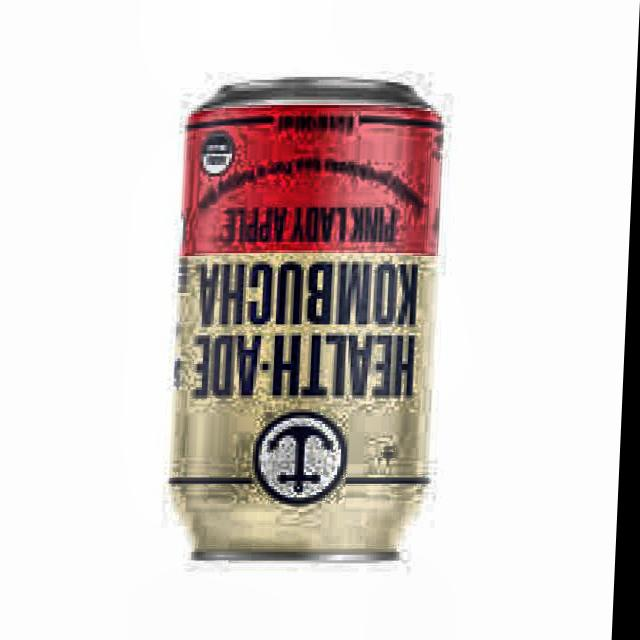can: (158, 69, 448, 569)
